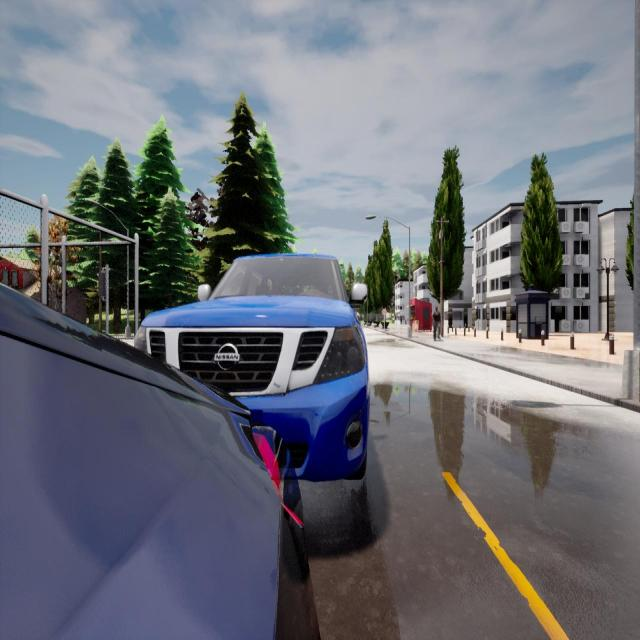Pedestrian: (432, 306, 441, 340)
Traffic_Signs: (382, 310, 386, 314)
Vehicle: (0, 288, 317, 638), (134, 255, 368, 479)
traffic_light: (98, 273, 106, 296)
